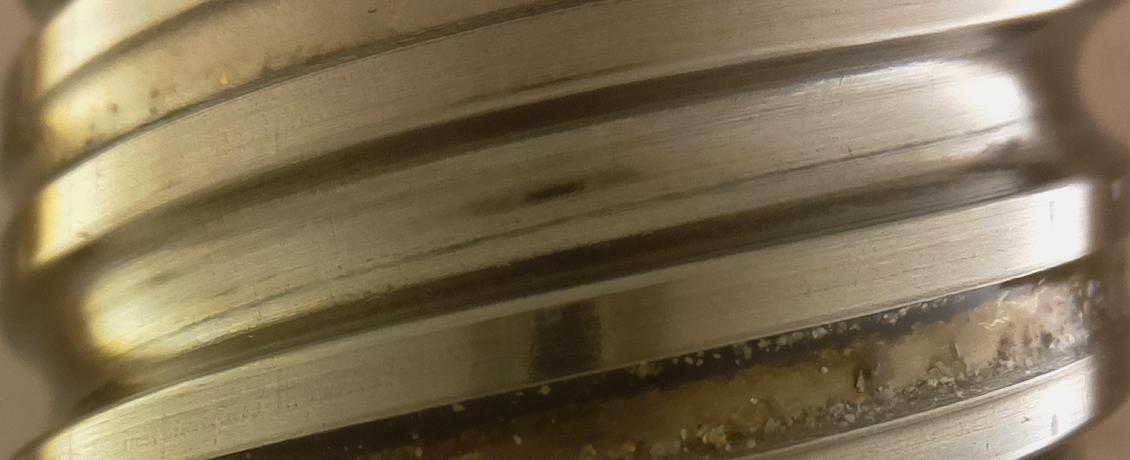pitting: (362, 296, 387, 318)
